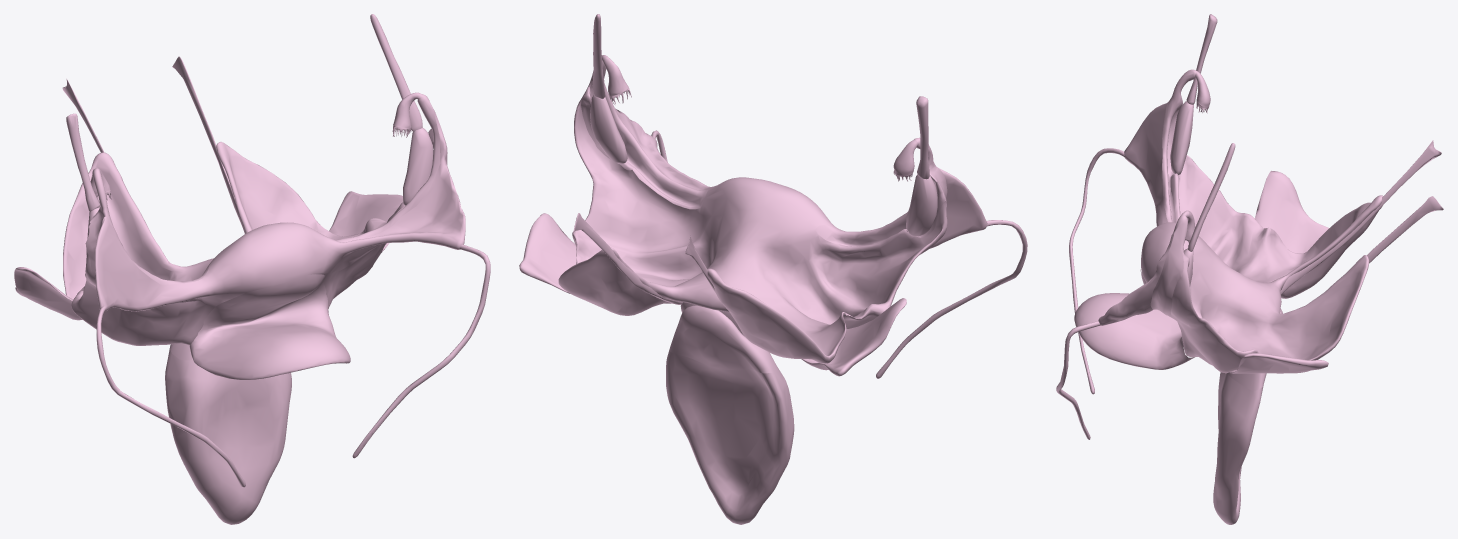
File: genital-f-bassin.lo.glb
The picture shows the model from 3 angles, left to right: view 1: azimuth 30°, elevation 25°; view 2: azimuth 150°, elevation 25°; view 3: azimuth 270°, elevation 25°; orthographic projection. The views are drawn at different scales.
Visible parts, largest first — view 1: HM-ligaments-uterus-ovaries, HM-vagina, HM-ovary-l, HM-fallopian-tube-l; view 2: HM-ligaments-uterus-ovaries, HM-vagina, HM-ovary-l, HM-ovary-r, HM-fallopian-tube-l, HM-fallopian-tube-r; view 3: HM-ligaments-uterus-ovaries, HM-vagina, HM-ovary-r.
Part boxes in pixels (box(x1,y1,x2,y2)): HM-ligaments-uterus-ovaries: box(14, 14, 490, 487); HM-vagina: box(165, 343, 291, 524); HM-ovary-l: box(403, 127, 433, 205); HM-fallopian-tube-l: box(392, 92, 423, 137); HM-ligaments-uterus-ovaries: box(519, 14, 1027, 378); HM-vagina: box(666, 305, 794, 524); HM-ovary-l: box(590, 95, 627, 163); HM-ovary-r: box(906, 174, 937, 236); HM-fallopian-tube-l: box(602, 55, 631, 104); HM-fallopian-tube-r: box(893, 139, 918, 181); HM-ligaments-uterus-ovaries: box(1056, 14, 1443, 439); HM-vagina: box(1213, 308, 1282, 524); HM-ovary-r: box(1170, 101, 1193, 174).
Bounding box in the file's own units: 0.1313 × 0.1494 × 0.1183.
